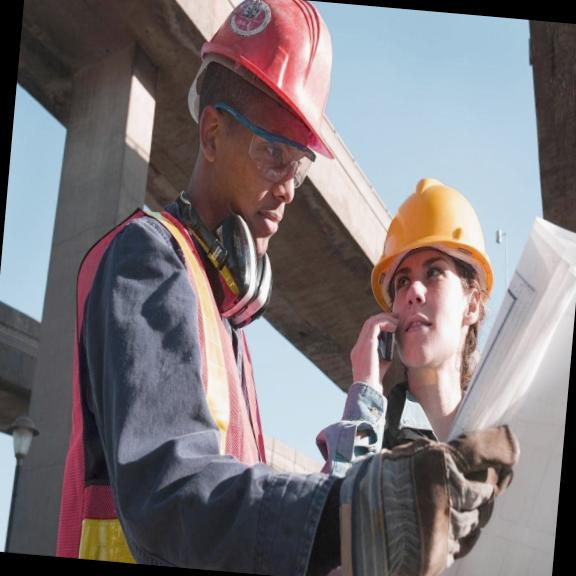safety_vest: (44, 208, 275, 573)
